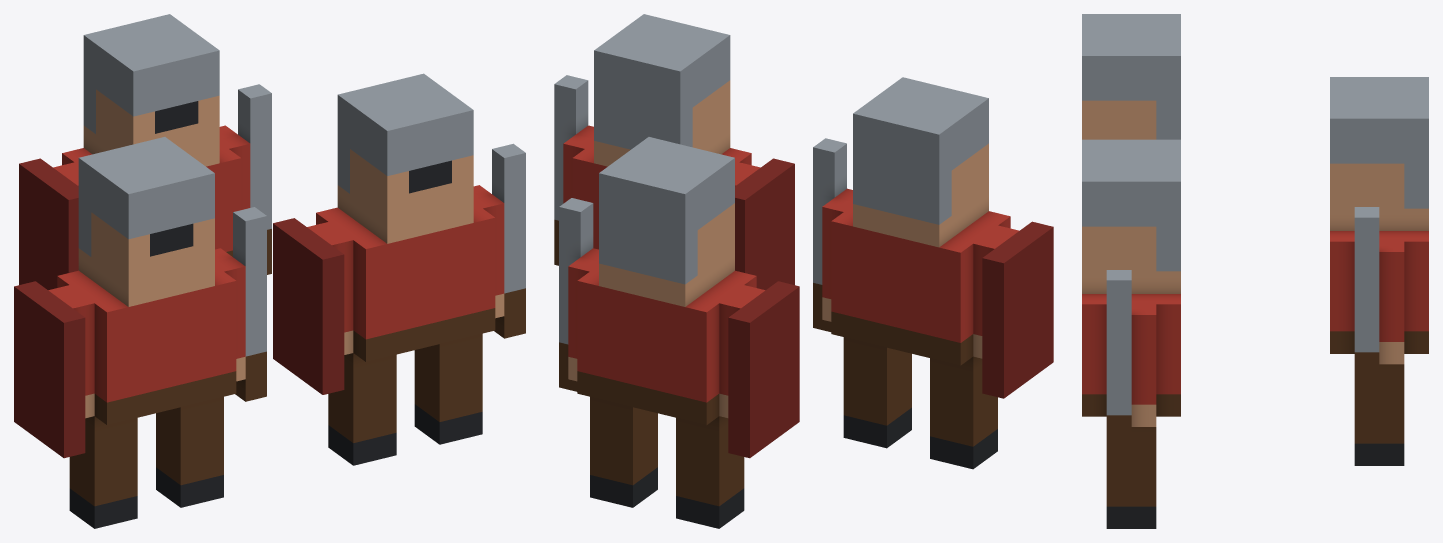
Rendered from u_sword.glb.
3 views of the same model, side by side, from view 1: azimuth 30°, elevation 25°; view 2: azimuth 150°, elevation 25°; view 3: azimuth 270°, elevation 25° (orthographic).
Visible parts, largest first — view 1: u_sword_body; view 2: u_sword_body; view 3: u_sword_body.
Boxes of the visible parts, x1,y1,x2,y2 form: u_sword_body: [14, 14, 525, 528]; u_sword_body: [554, 14, 1053, 528]; u_sword_body: [1082, 14, 1428, 528].
Bounding box in the file's own units: 1.38 × 0.9375 × 0.875.
1 material, 1 textured.
